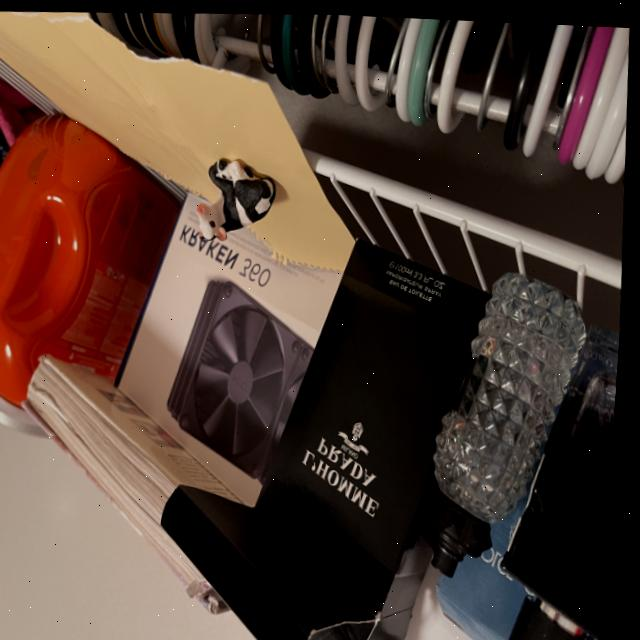cow: (189, 151, 284, 254)
